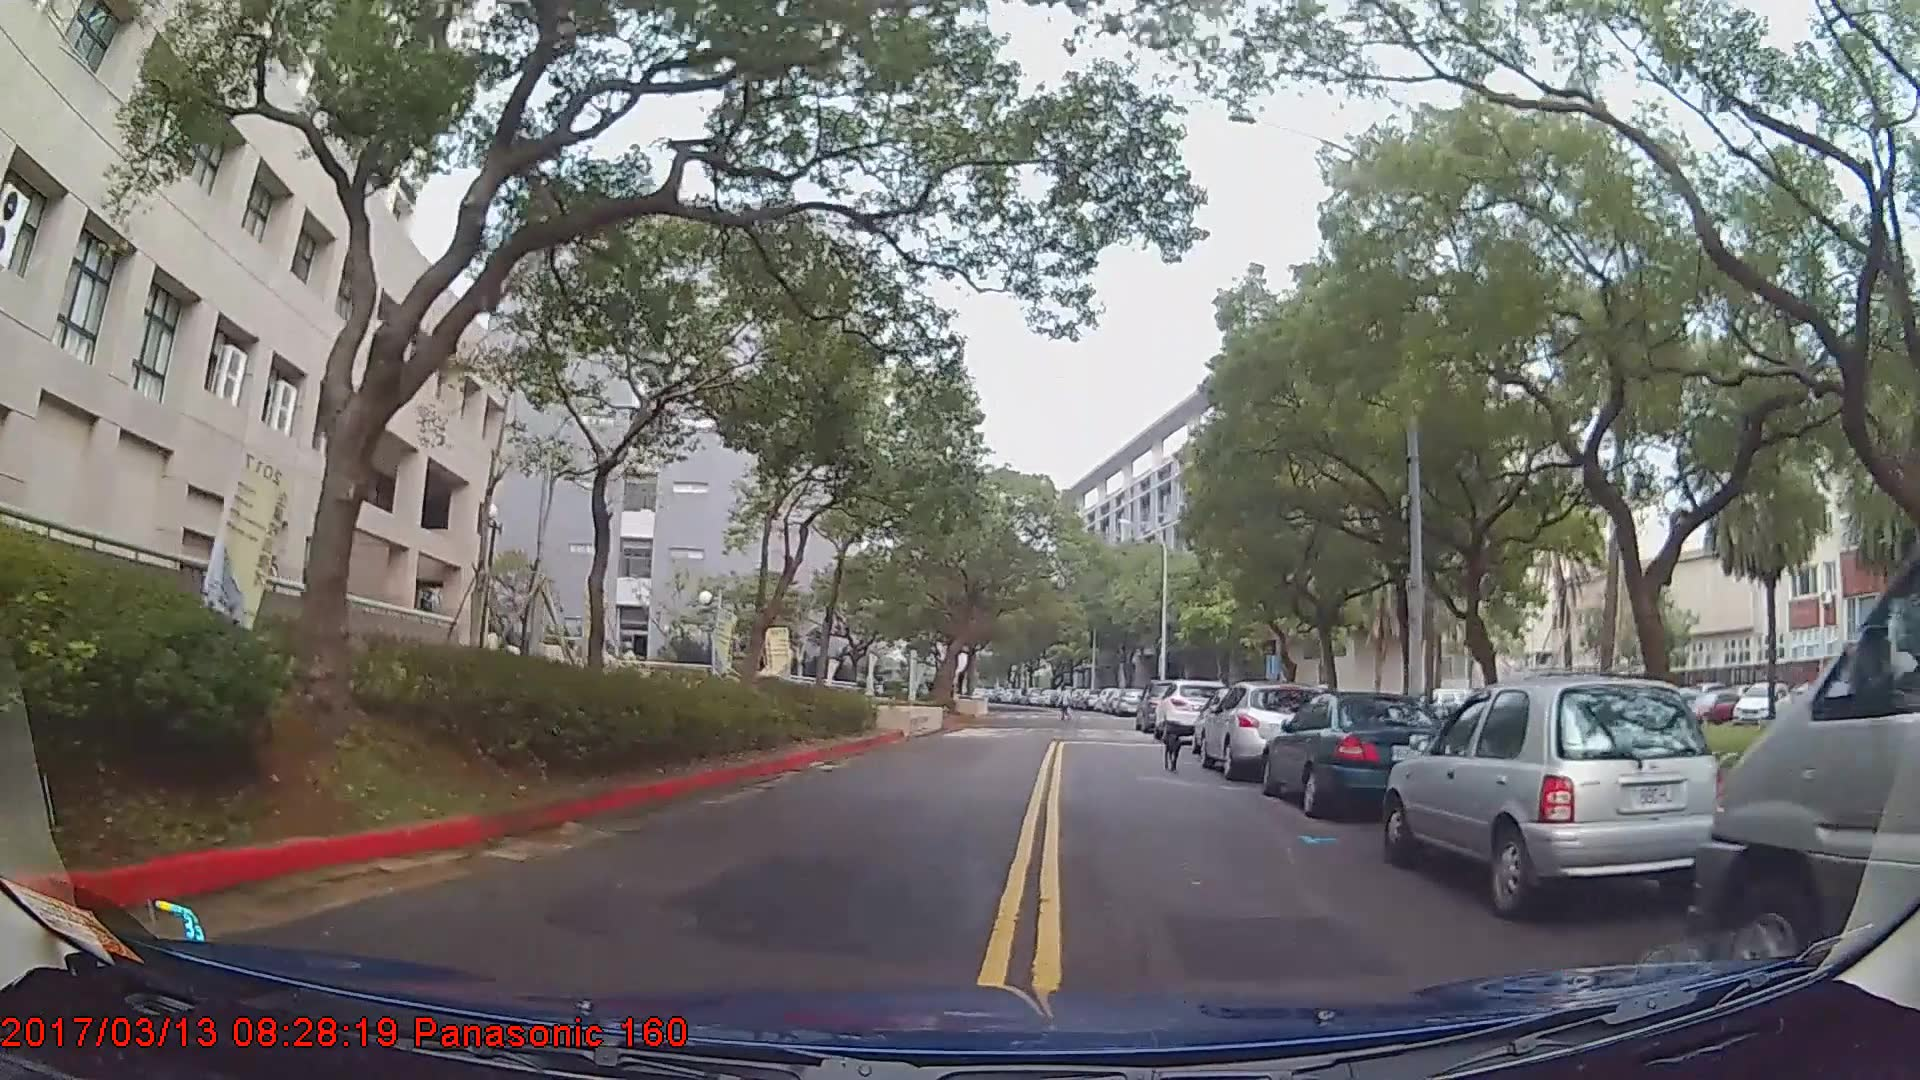pedestrian: (1057, 686, 1077, 724)
vehicle: (1686, 536, 1920, 1008), (1384, 673, 1725, 916), (1262, 690, 1465, 823), (1198, 678, 1327, 780), (1154, 679, 1230, 744)
